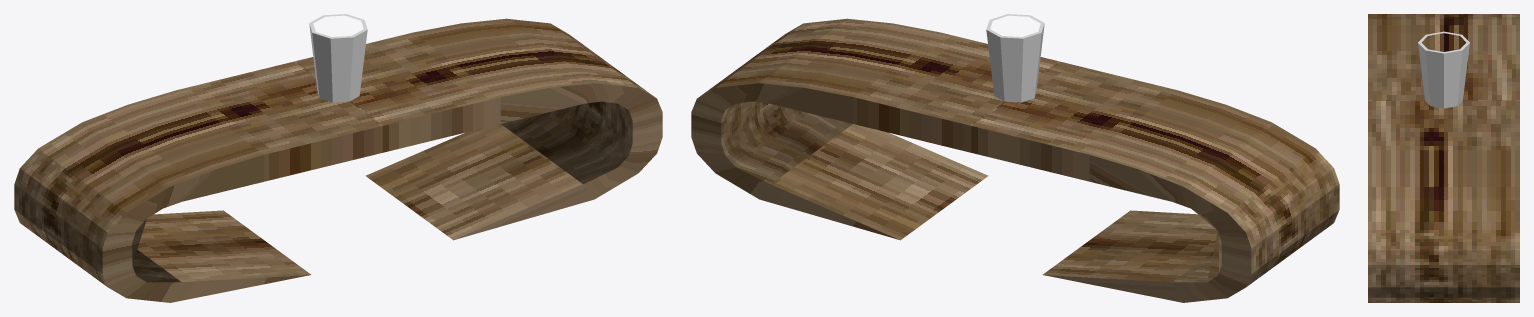
File: animated_table.glb
The picture shows the model from 3 angles, left to right: view 1: azimuth 30°, elevation 25°; view 2: azimuth 150°, elevation 25°; view 3: azimuth 270°, elevation 25°; orthographic projection. The views are drawn at different scales.
Visible parts, largest first — view 1: Table, Glass; view 2: Table, Glass; view 3: Table, Glass.
Part boxes in pixels (x1,y1,x2,y2): Table: (14,18,662,302); Glass: (309,14,367,102); Table: (691,18,1339,302); Glass: (986,14,1044,102); Table: (1368,14,1519,302); Glass: (1418,31,1469,108).
Bounding box in the file's own units: 14.58 × 4.95 × 3.97.
1 material, 1 textured.
